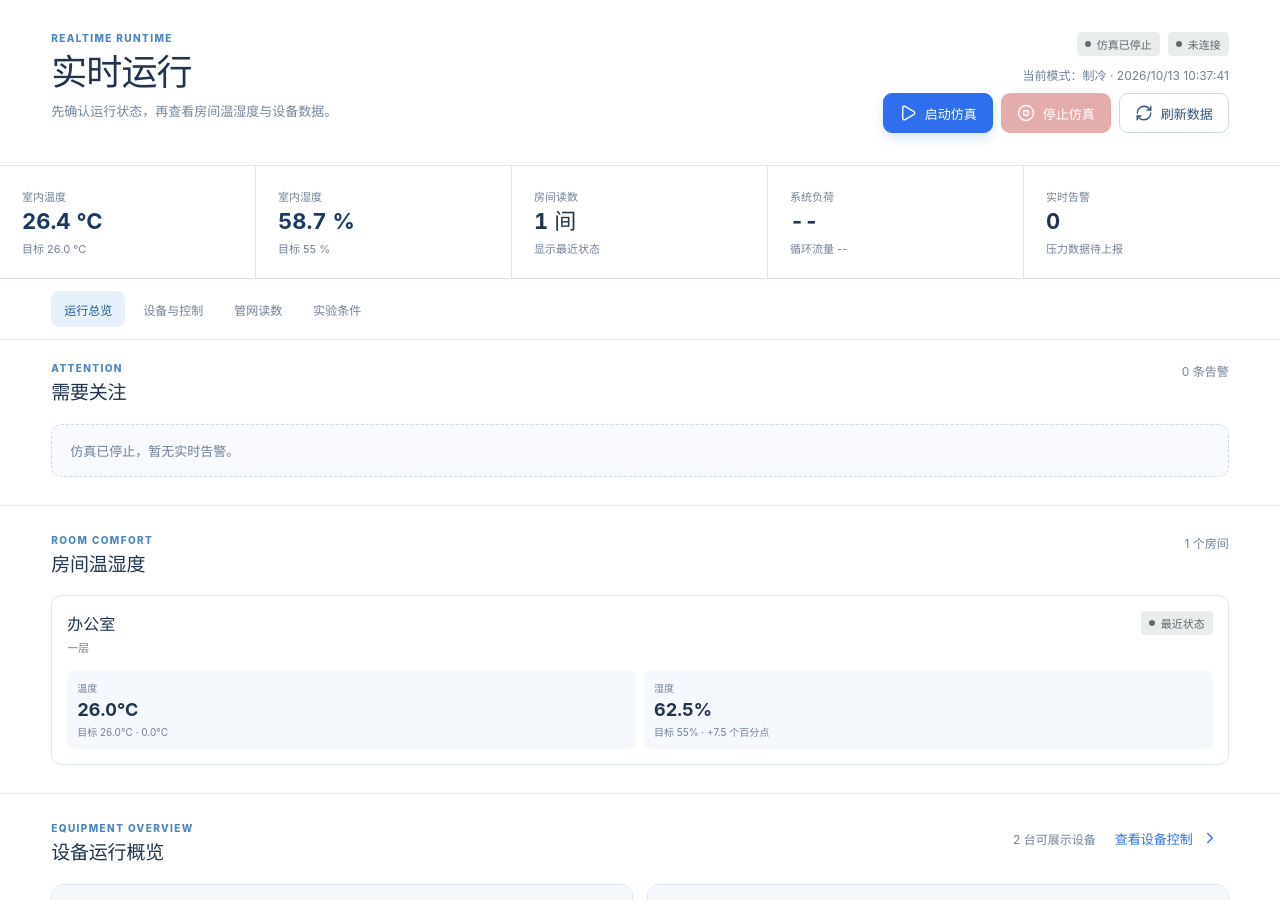
Test case: runtime device controls › disables saving and shows progress text while requests are in flight
Click the tab with id "runtime-tab-conditions" at (337, 309), box [300, 291, 374, 327]
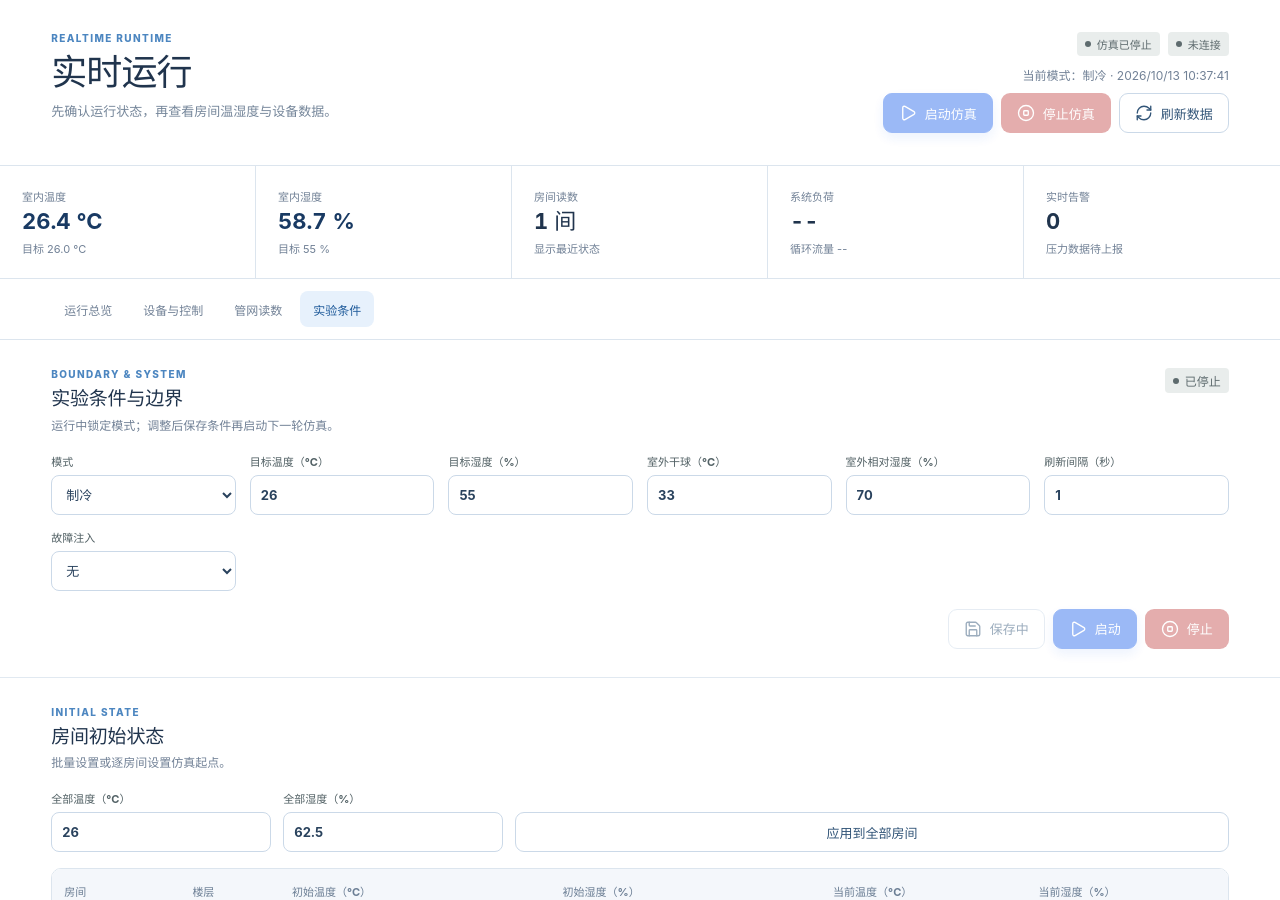
Now the button with class "secondary" reads "保存中", box [948, 609, 1045, 649]
Now the button with class "secondary" showing "保存中" is disabled, box [948, 609, 1045, 649]
Click the tab with id "runtime-tab-devices" at (173, 309), box [130, 291, 216, 327]
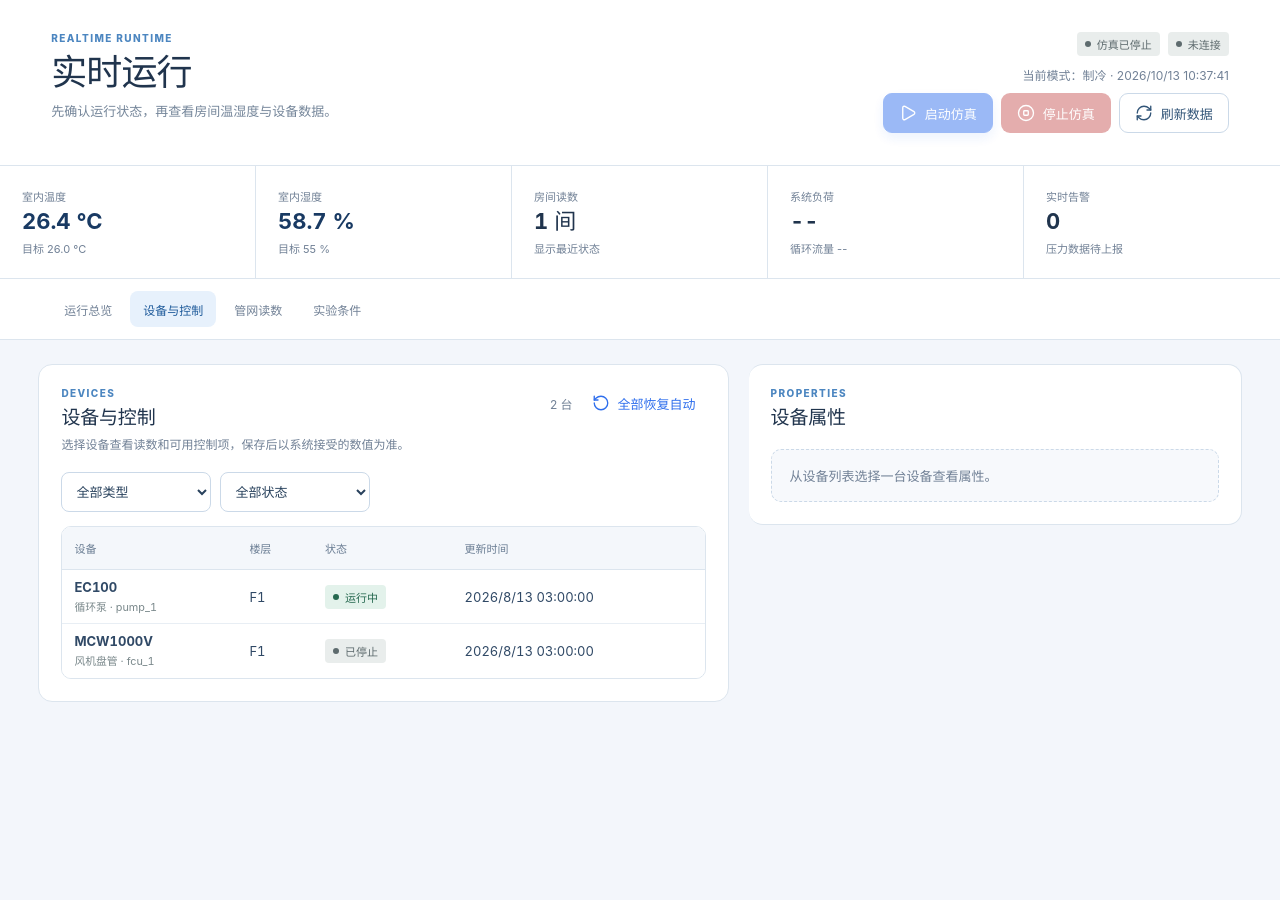
Now the row "EC100 循环泵 · pump_1 F1 运行中 2026/8/13 03:00:00" is shown
Click the row "EC100 循环泵 · pump_1 F1 运行中 2026/8/13 03:00:00" at (384, 597), box [62, 570, 705, 624]
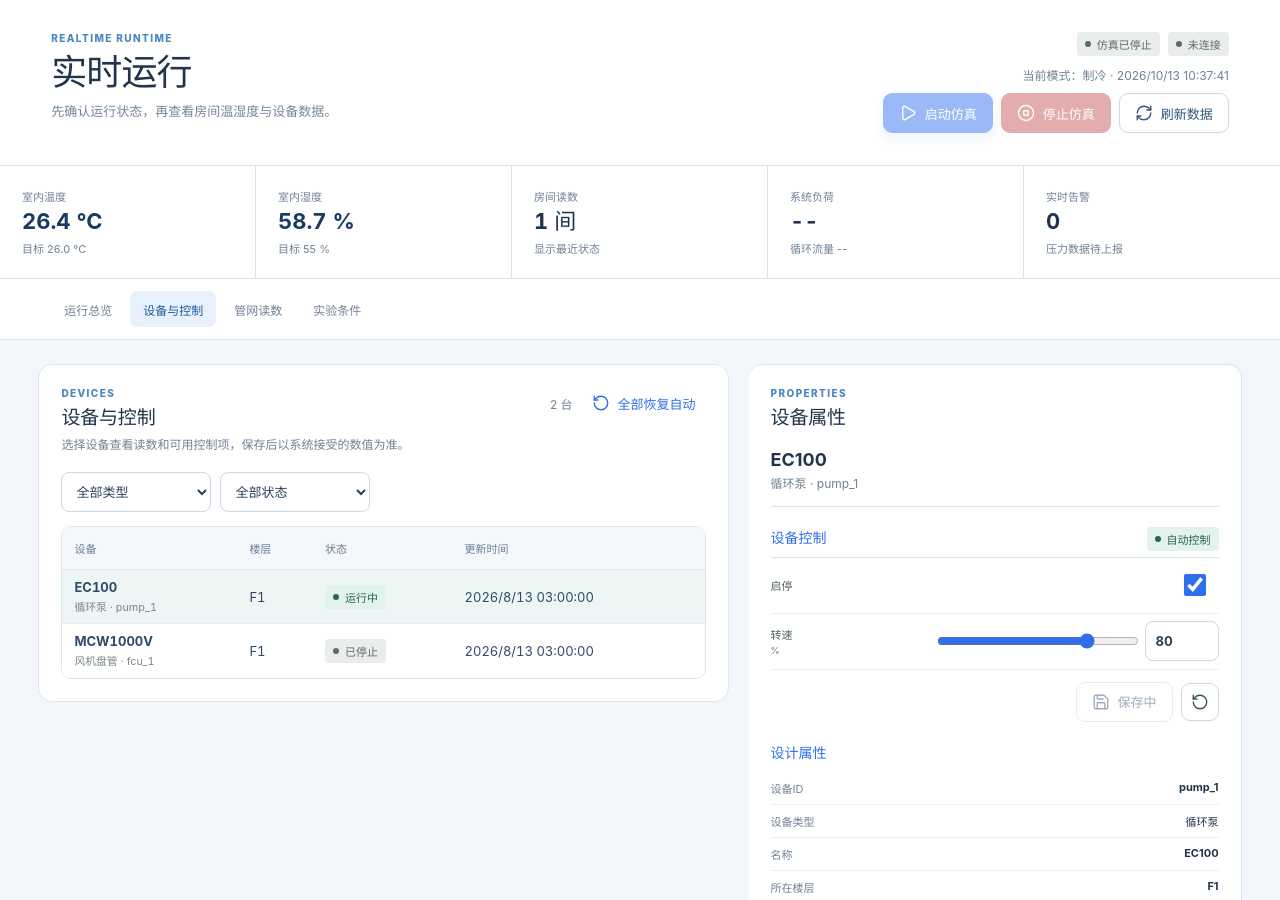
Now the button with class "secondary" reads "保存中", box [1076, 682, 1173, 722]
Now the button with class "secondary" showing "保存中" is disabled, box [1076, 682, 1173, 722]
